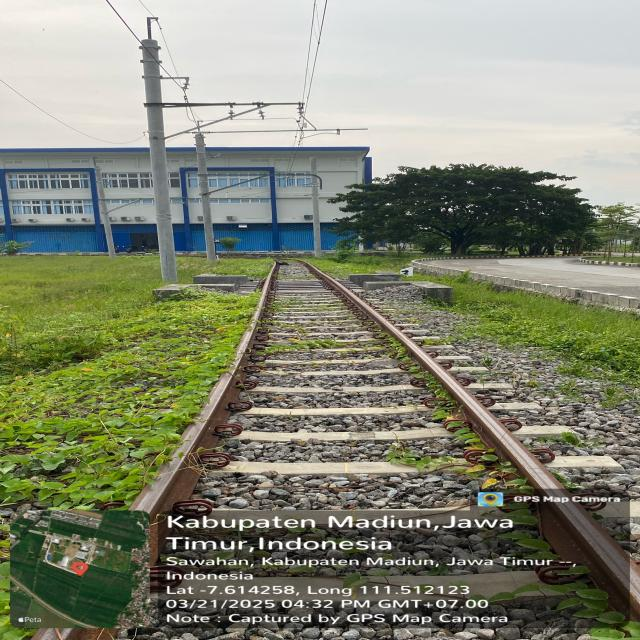rail-detection: (301, 263, 640, 612), (130, 262, 279, 524)
